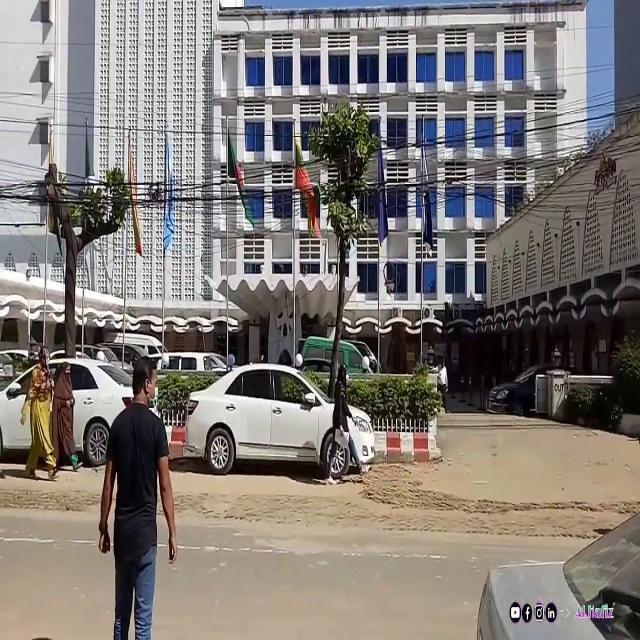white: (191, 363, 377, 481), (1, 364, 156, 459)
